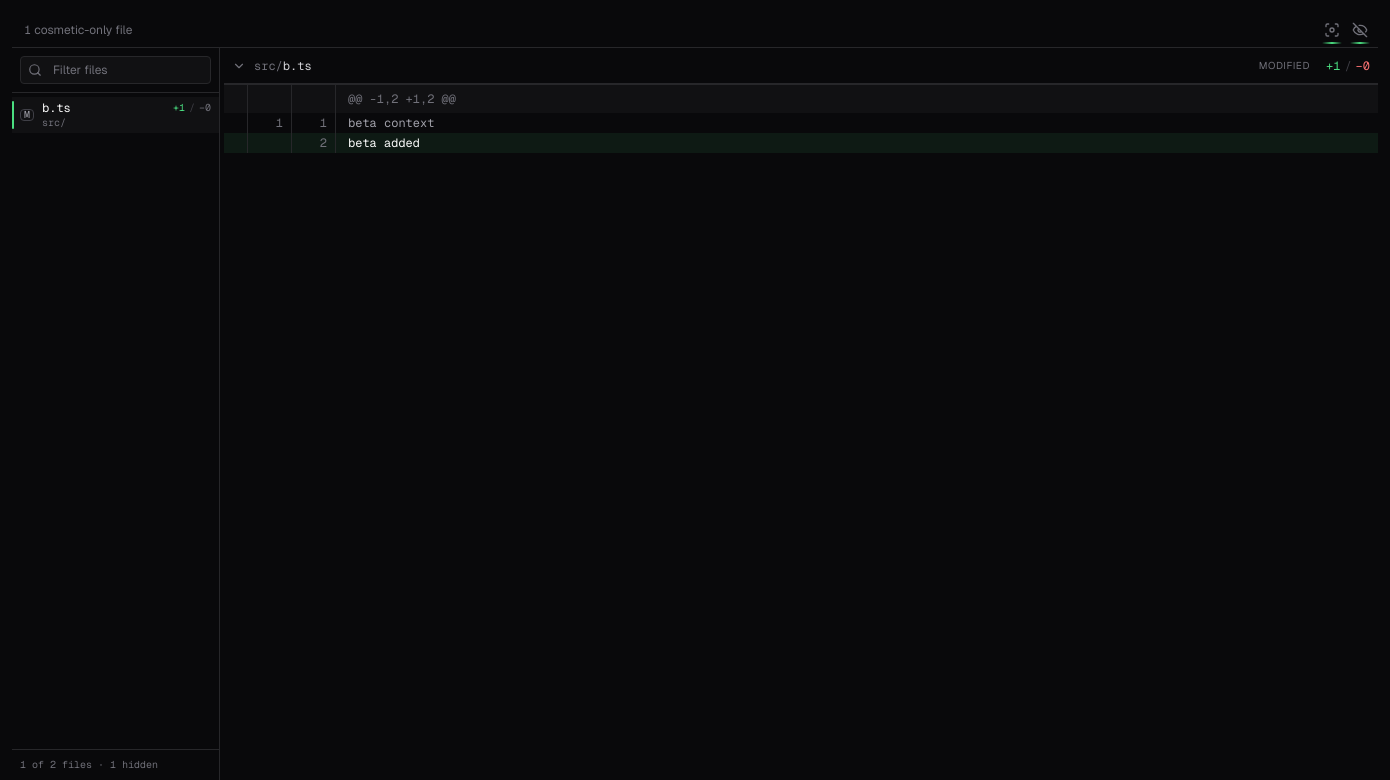
DiffView › cosmetic-only files are hidden by default and can be shown
Check: the text "a.ts" is not shown
Check: the text "1 cosmetic-only file" is shown, box [24,22,132,38]
Click the button named "Hide cosmetic-only files" at (1360, 30), box [1346,16,1374,44]
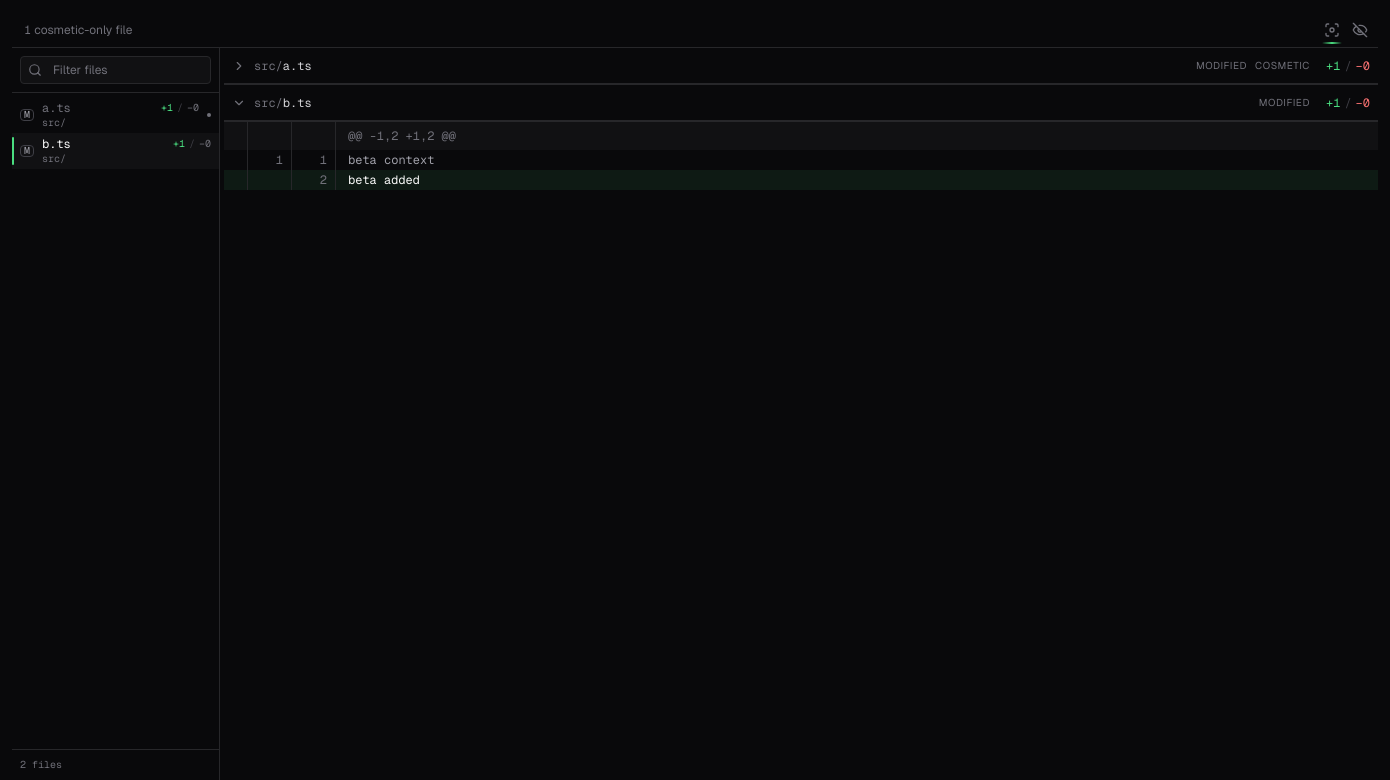
Check: the 2nd text "a.ts" is shown, box [42,100,71,116]
